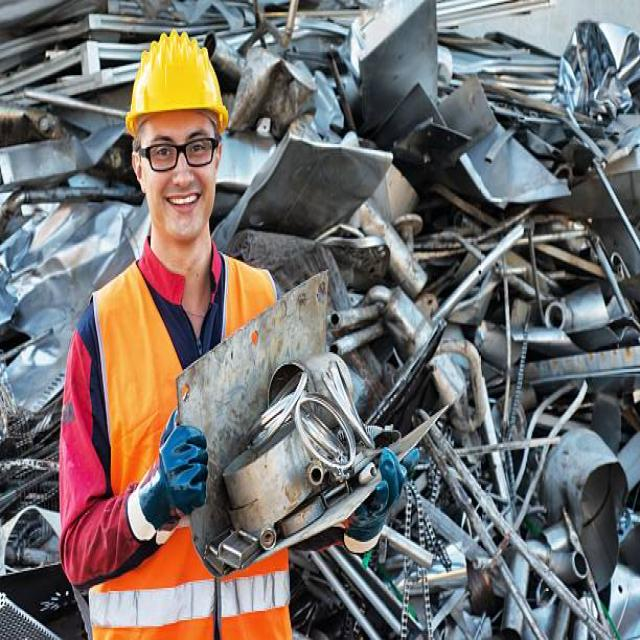metal: (410, 179, 609, 613), (202, 309, 355, 533)
